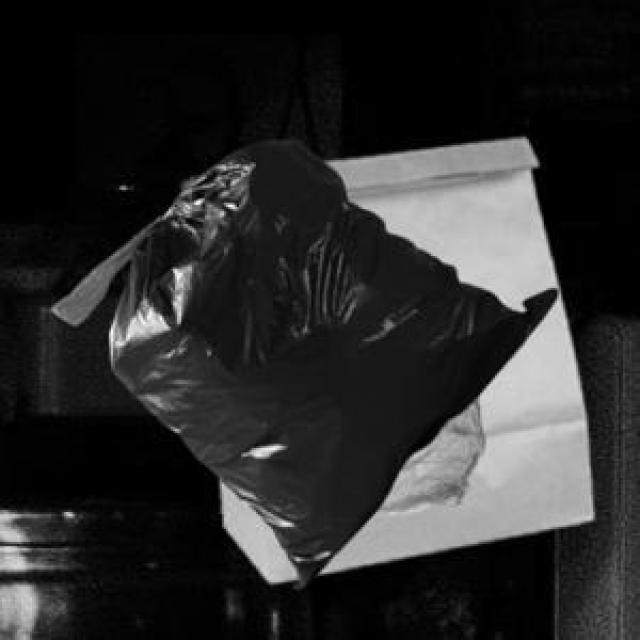miscellaneous trash: (49, 137, 553, 585)
paper: (218, 134, 589, 578)
